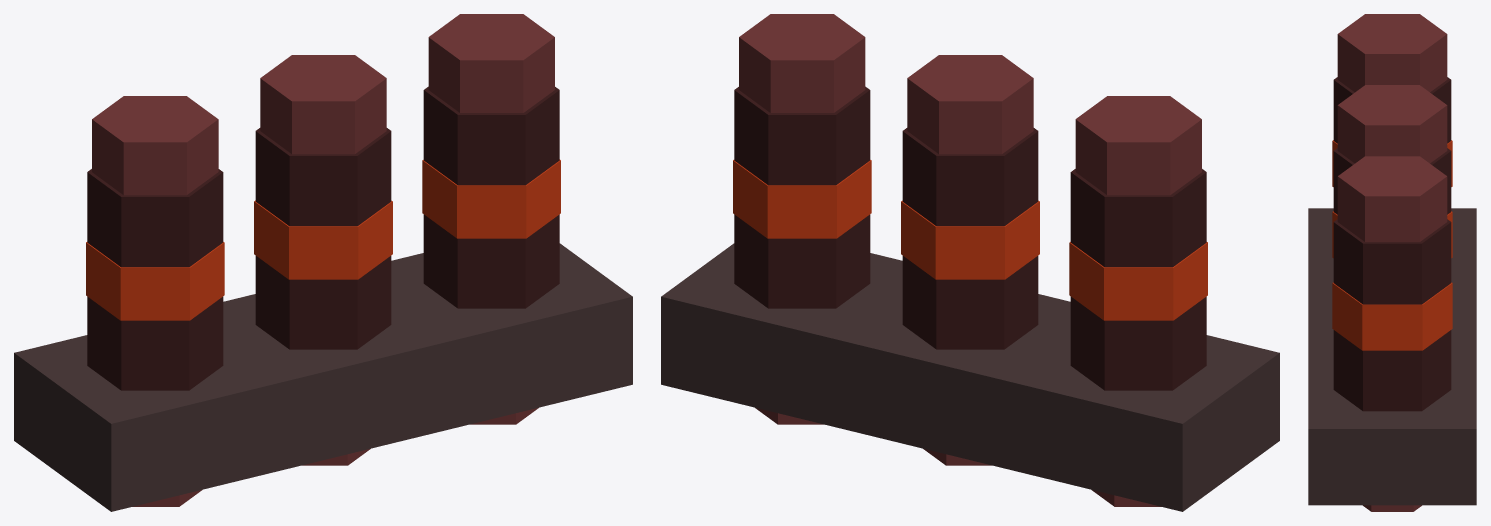
Rendered from ce_ammo2_fuel30_inc_b.obj.
The picture shows the model from 3 angles, left to right: view 1: azimuth 30°, elevation 25°; view 2: azimuth 150°, elevation 25°; view 3: azimuth 270°, elevation 25°; orthographic projection. The views are drawn at different scales.
Visible parts, largest first — view 1: ce_ammo2_fuel30_inc_b_3, ce_ammo2_fuel30_inc_b_11, ce_ammo2_fuel30_inc_b_7, ce_ammo2_fuel30_inc_b_15, ce_ammo2_fuel30_inc_b_10, ce_ammo2_fuel30_inc_b_6, ce_ammo2_fuel30_inc_b_14, ce_ammo2_fuel30_inc_b_4, ce_ammo2_fuel30_inc_b_12, ce_ammo2_fuel30_inc_b_8, ce_ammo2_fuel30_inc_b_9, ce_ammo2_fuel30_inc_b_13 (+1 smaller); view 2: ce_ammo2_fuel30_inc_b_3, ce_ammo2_fuel30_inc_b_7, ce_ammo2_fuel30_inc_b_11, ce_ammo2_fuel30_inc_b_15, ce_ammo2_fuel30_inc_b_10, ce_ammo2_fuel30_inc_b_6, ce_ammo2_fuel30_inc_b_14, ce_ammo2_fuel30_inc_b_4, ce_ammo2_fuel30_inc_b_8, ce_ammo2_fuel30_inc_b_12, ce_ammo2_fuel30_inc_b_9, ce_ammo2_fuel30_inc_b_5 (+1 smaller); view 3: ce_ammo2_fuel30_inc_b_3, ce_ammo2_fuel30_inc_b_15, ce_ammo2_fuel30_inc_b_14, ce_ammo2_fuel30_inc_b_11, ce_ammo2_fuel30_inc_b_7, ce_ammo2_fuel30_inc_b_12, ce_ammo2_fuel30_inc_b_13, ce_ammo2_fuel30_inc_b_10, ce_ammo2_fuel30_inc_b_6, ce_ammo2_fuel30_inc_b_2, ce_ammo2_fuel30_inc_b_9, ce_ammo2_fuel30_inc_b_5.
Part boxes in pixels (<box>): ce_ammo2_fuel30_inc_b_3: <box>14,243,632,511</box>; ce_ammo2_fuel30_inc_b_11: <box>260,55,386,154</box>; ce_ammo2_fuel30_inc_b_7: <box>92,96,218,195</box>; ce_ammo2_fuel30_inc_b_15: <box>428,14,554,112</box>; ce_ammo2_fuel30_inc_b_10: <box>255,128,391,226</box>; ce_ammo2_fuel30_inc_b_6: <box>87,169,223,267</box>; ce_ammo2_fuel30_inc_b_14: <box>423,86,559,185</box>; ce_ammo2_fuel30_inc_b_4: <box>87,296,223,390</box>; ce_ammo2_fuel30_inc_b_12: <box>423,214,559,308</box>; ce_ammo2_fuel30_inc_b_8: <box>255,256,391,349</box>; ce_ammo2_fuel30_inc_b_9: <box>254,200,392,279</box>; ce_ammo2_fuel30_inc_b_13: <box>422,159,560,238</box>; ce_ammo2_fuel30_inc_b_3: <box>661,243,1279,511</box>; ce_ammo2_fuel30_inc_b_7: <box>1075,96,1201,195</box>; ce_ammo2_fuel30_inc_b_11: <box>907,55,1033,154</box>; ce_ammo2_fuel30_inc_b_15: <box>739,14,865,112</box>; ce_ammo2_fuel30_inc_b_10: <box>902,128,1038,226</box>; ce_ammo2_fuel30_inc_b_6: <box>1070,169,1206,267</box>; ce_ammo2_fuel30_inc_b_14: <box>734,86,870,185</box>; ce_ammo2_fuel30_inc_b_4: <box>1070,296,1206,390</box>; ce_ammo2_fuel30_inc_b_8: <box>902,256,1038,349</box>; ce_ammo2_fuel30_inc_b_12: <box>734,214,870,308</box>; ce_ammo2_fuel30_inc_b_9: <box>901,200,1039,279</box>; ce_ammo2_fuel30_inc_b_5: <box>1069,242,1207,320</box>; ce_ammo2_fuel30_inc_b_3: <box>1308,208,1476,505</box>; ce_ammo2_fuel30_inc_b_15: <box>1337,156,1447,241</box>; ce_ammo2_fuel30_inc_b_14: <box>1333,219,1451,304</box>; ce_ammo2_fuel30_inc_b_11: <box>1337,85,1447,163</box>; ce_ammo2_fuel30_inc_b_7: <box>1337,14,1447,92</box>; ce_ammo2_fuel30_inc_b_12: <box>1333,330,1451,411</box>; ce_ammo2_fuel30_inc_b_13: <box>1332,282,1452,350</box>; ce_ammo2_fuel30_inc_b_10: <box>1333,148,1451,214</box>; ce_ammo2_fuel30_inc_b_6: <box>1333,77,1451,143</box>; ce_ammo2_fuel30_inc_b_2: <box>1363,505,1421,511</box>; ce_ammo2_fuel30_inc_b_9: <box>1332,211,1452,258</box>; ce_ammo2_fuel30_inc_b_5: <box>1332,140,1452,186</box>.
Bounding box in the file's own units: 0.62 × 0.42 × 0.2.
